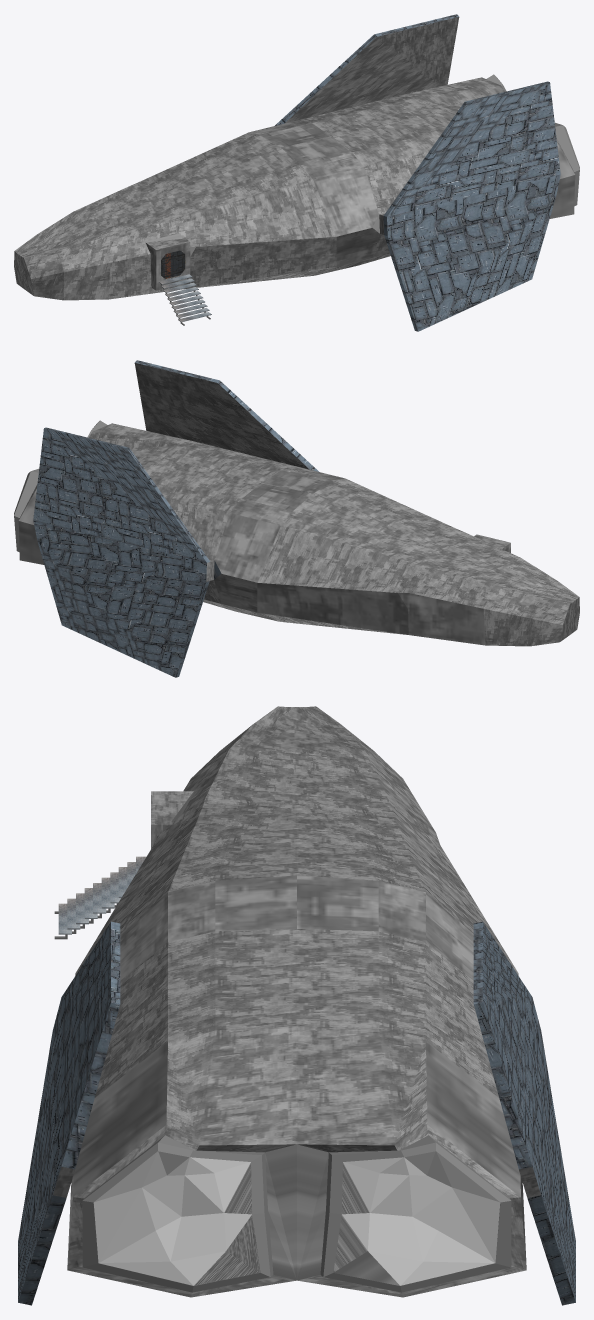
Rendered from FIXES_LASTfbx.fbx.
3 views of the same model, one above another, from view 1: azimuth 30°, elevation 25°; view 2: azimuth 150°, elevation 25°; view 3: azimuth 270°, elevation 25° (orthographic). The views are drawn at different scales.
Visible parts, largest first — view 1: spaceShipOutside, Cube.009, Cube; view 2: spaceShipOutside; view 3: spaceShipOutside, Cube.009, Cube.
Part boxes in pixels (box(x1,y1,x2,y2)): spaceShipOutside: box(14, 14, 579, 331); Cube.009: box(159, 274, 211, 325); Cube: box(145, 238, 190, 290); spaceShipOutside: box(14, 360, 579, 677); spaceShipOutside: box(18, 706, 575, 1305); Cube.009: box(54, 856, 146, 939); Cube: box(151, 791, 193, 848).
Bounding box in the file's own units: 34888 × 12633 × 16276.
